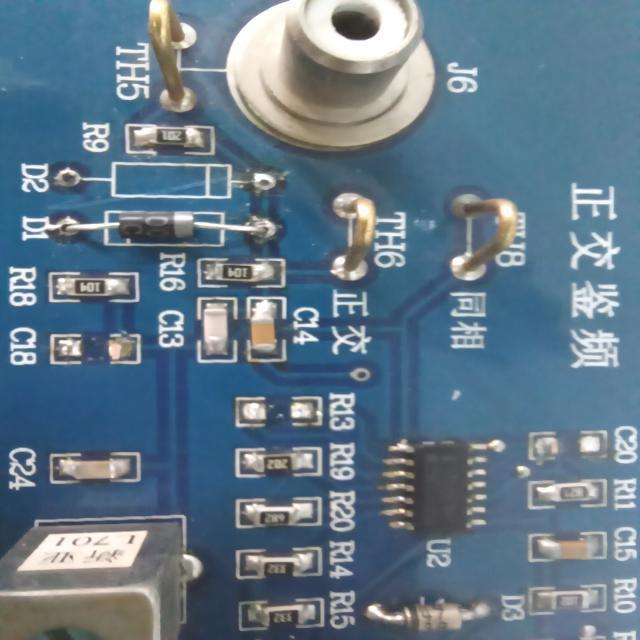Missing component: (12, 152, 300, 204), (4, 324, 156, 370), (224, 388, 360, 435), (516, 422, 640, 467)
